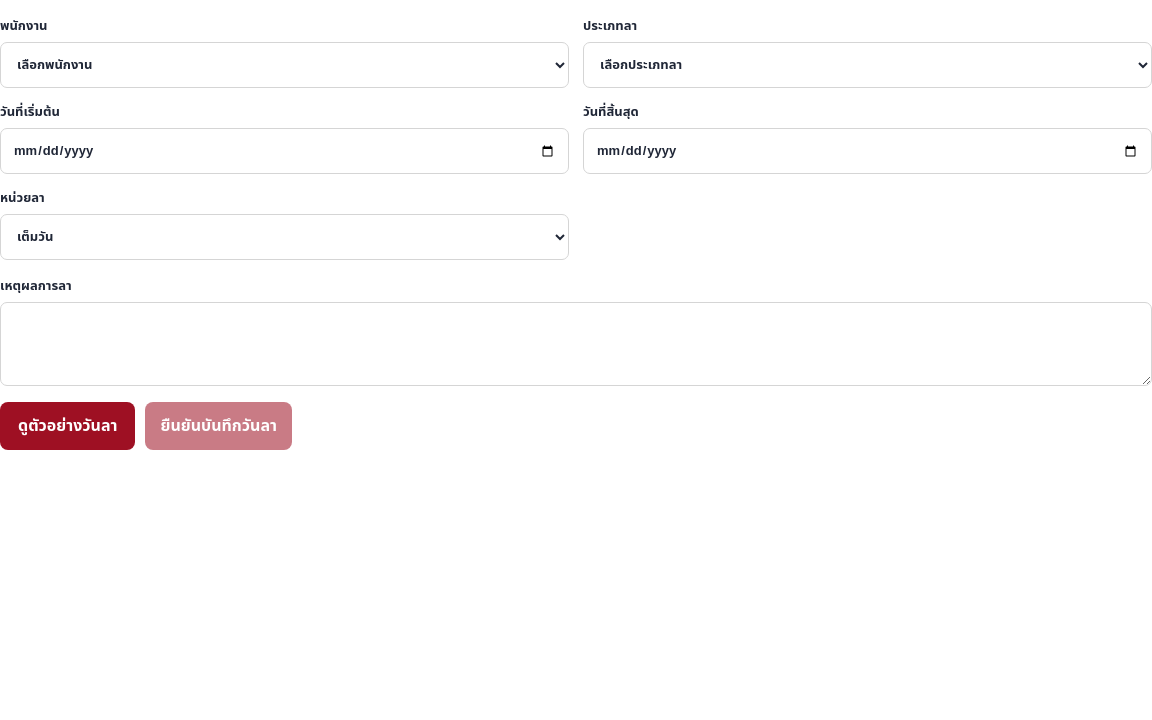
Test case: LeaveEntryForm preview gate › disables the save control while a write is pending
Step 1. Click the button "ดูตัวอย่างวันลา" → (68, 426), box [0, 402, 136, 450]
(page scrolled)
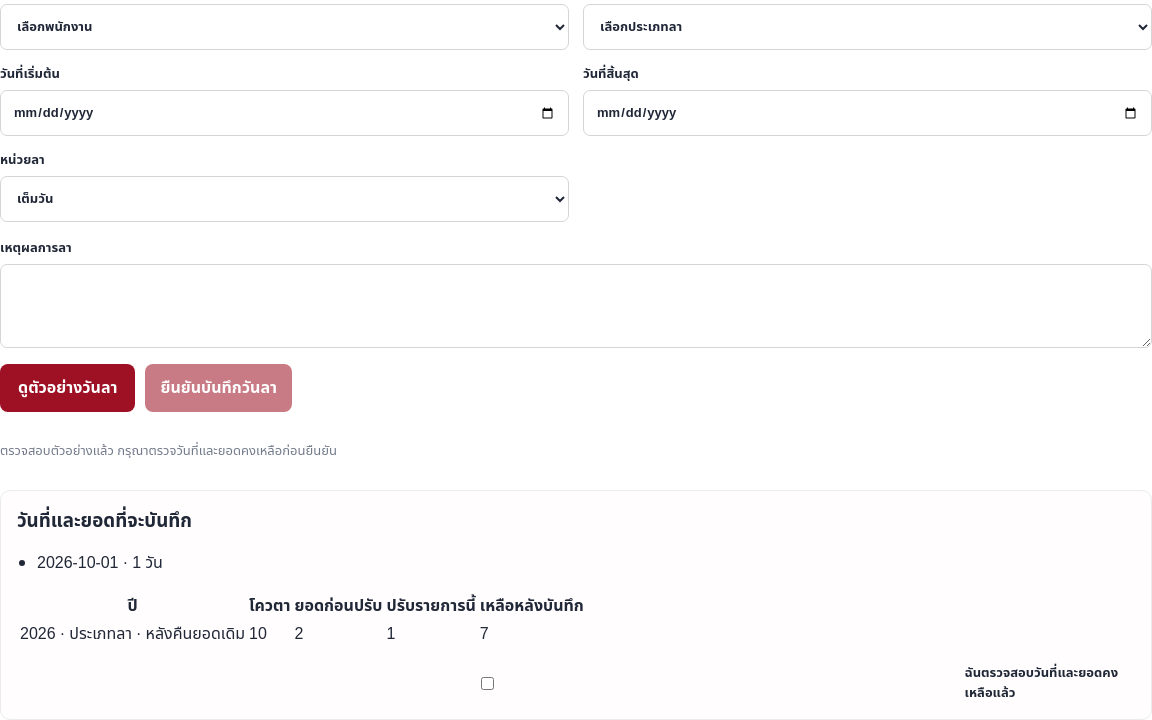
Result: the element named "ตัวอย่างวันลา" is shown at [0, 490, 1151, 719]
Step 2. Click the checkbox labelled "ฉันตรวจสอบวันที่และยอดคงเหลือแล้ว" → (487, 683), box [21, 676, 954, 690]
(page scrolled)
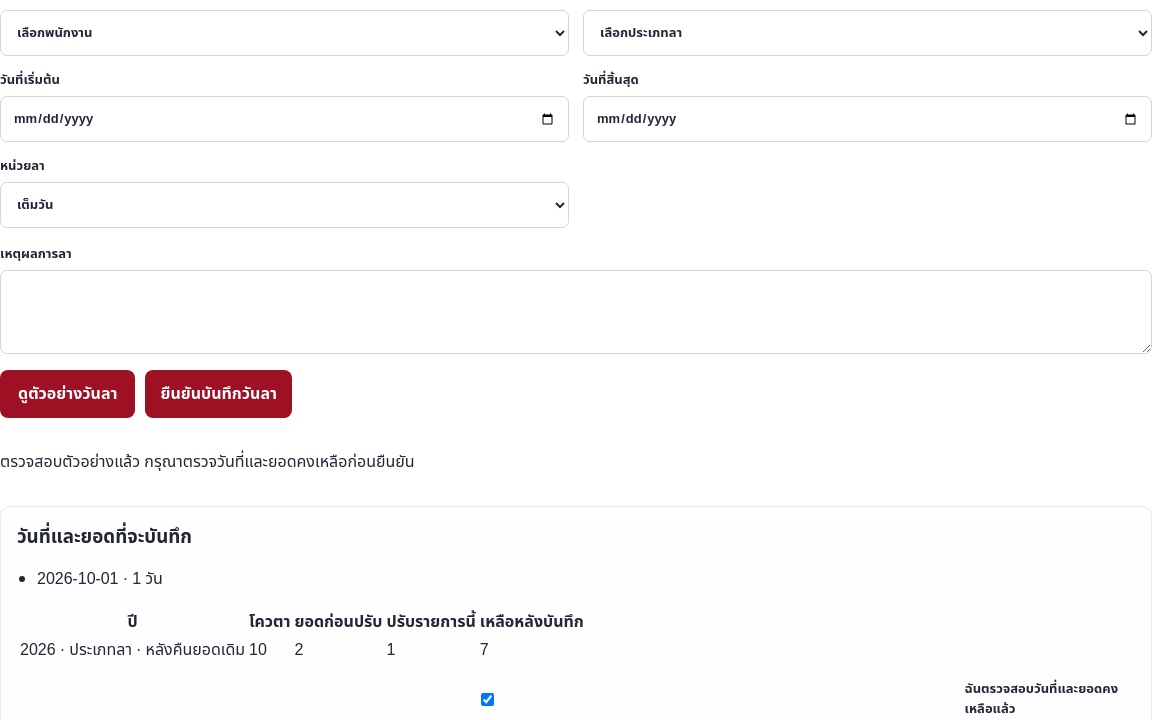
Step 3. Submit the form named "ตัวอย่างวันลา"
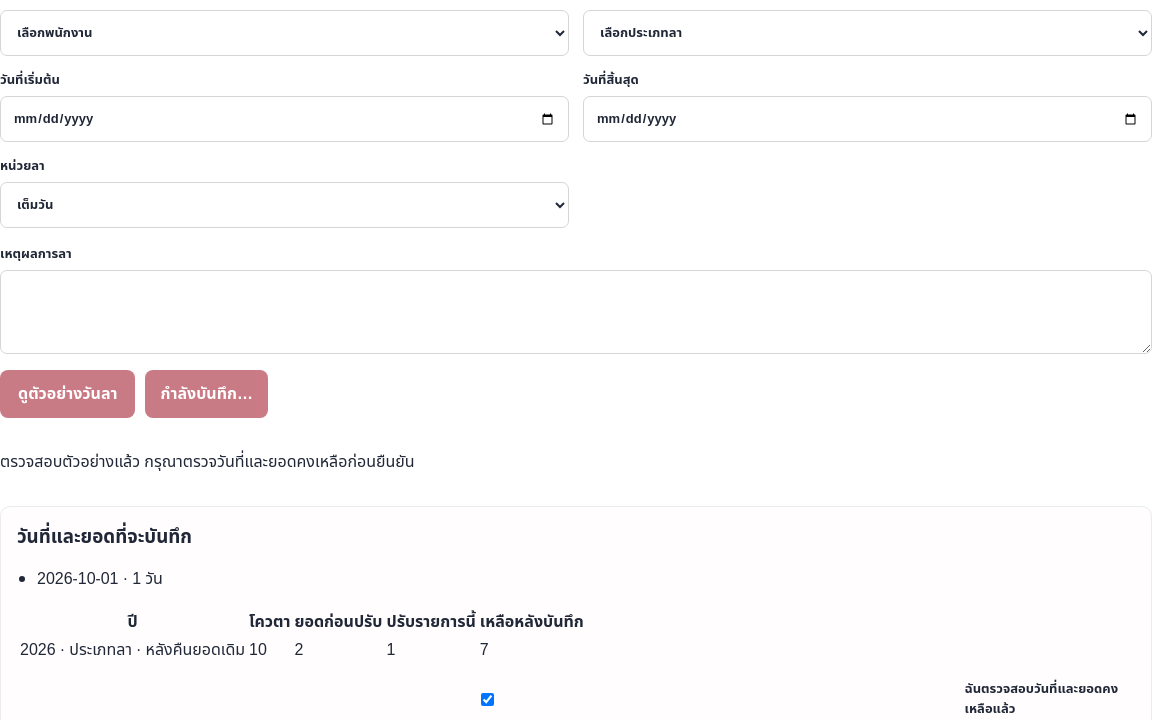
Result: the button "กำลังบันทึก…" is disabled at [146, 370, 268, 418]
